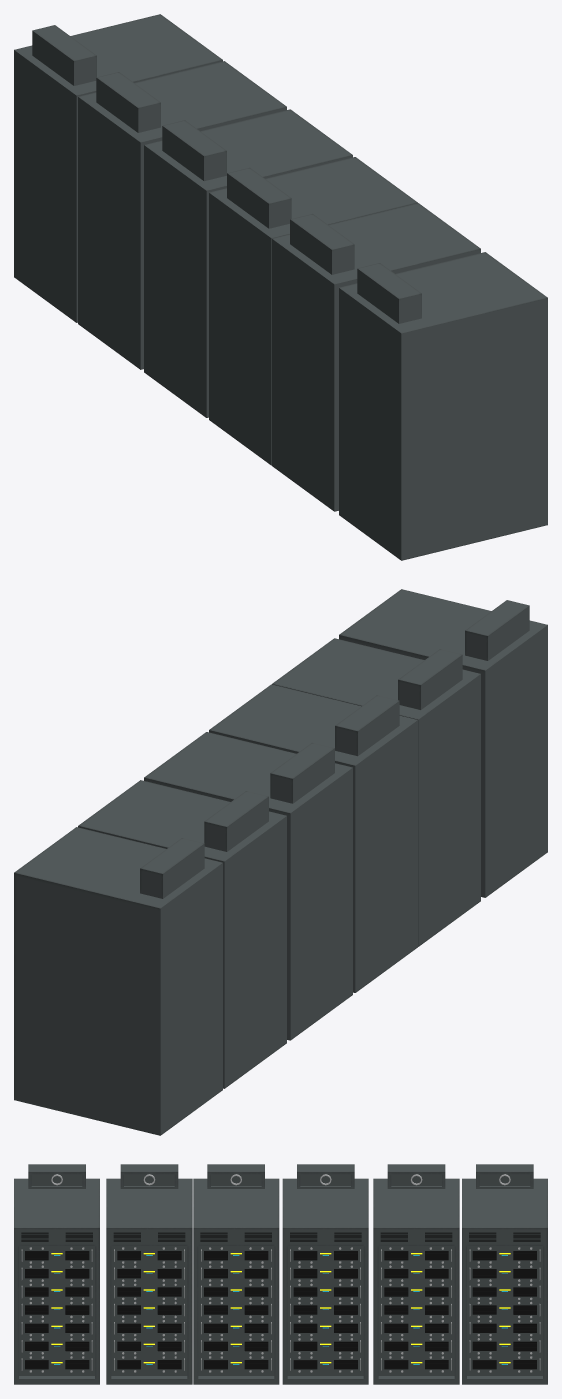
File: Zona02Objetos01.fbx
3 renders of one model, top to bottom at view 1: azimuth 30°, elevation 25°; view 2: azimuth 150°, elevation 25°; view 3: azimuth 270°, elevation 25°, orthographic. The views are drawn at different scales.
Visible parts, largest first — view 1: Zona02Objetos01; view 2: Zona02Objetos01; view 3: Zona02Objetos01.
Part boxes in pixels (<box>): Zona02Objetos01: <box>14,14,547,560</box>; Zona02Objetos01: <box>14,589,547,1135</box>; Zona02Objetos01: <box>14,1164,547,1384</box>.
Size of the model in its own units: 175 by 287 by 800.
